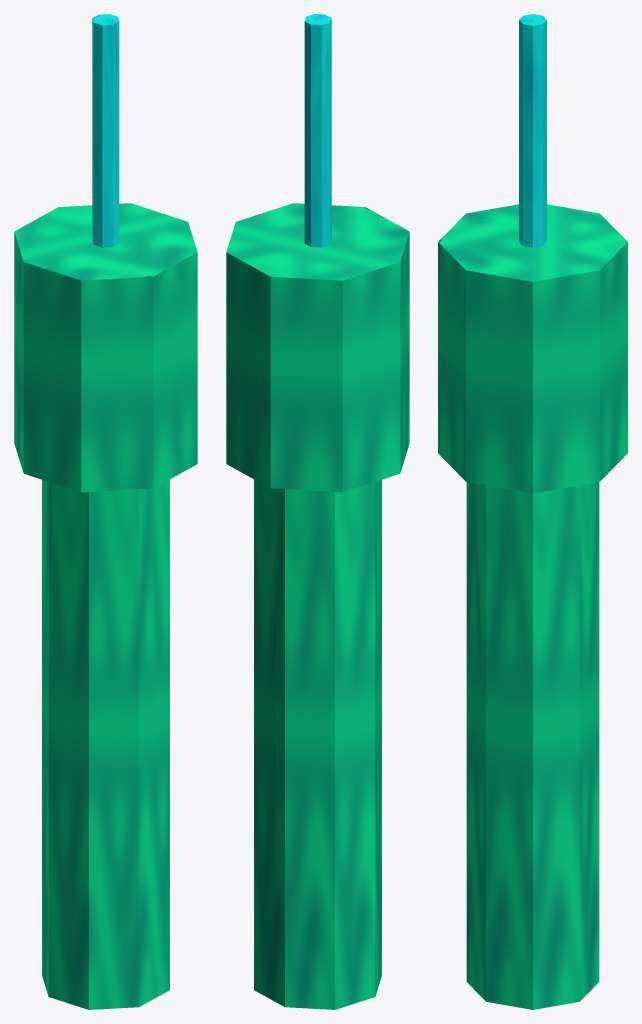
Rendered from SM_Froufous_01.fbx.
The picture shows the model from 3 angles, left to right: view 1: azimuth 30°, elevation 25°; view 2: azimuth 150°, elevation 25°; view 3: azimuth 270°, elevation 25°; orthographic projection.
Parts seen in each view (by area): view 1: SM_Froufous_01; view 2: SM_Froufous_01; view 3: SM_Froufous_01.
Part boxes in pixels (<box>): SM_Froufous_01: <box>14,14,197,1009</box>; SM_Froufous_01: <box>226,14,409,1009</box>; SM_Froufous_01: <box>438,14,627,1009</box>.
Bounding box in the file's own units: 0.2441 × 1.37 × 0.2442.
1 material, 1 textured.
